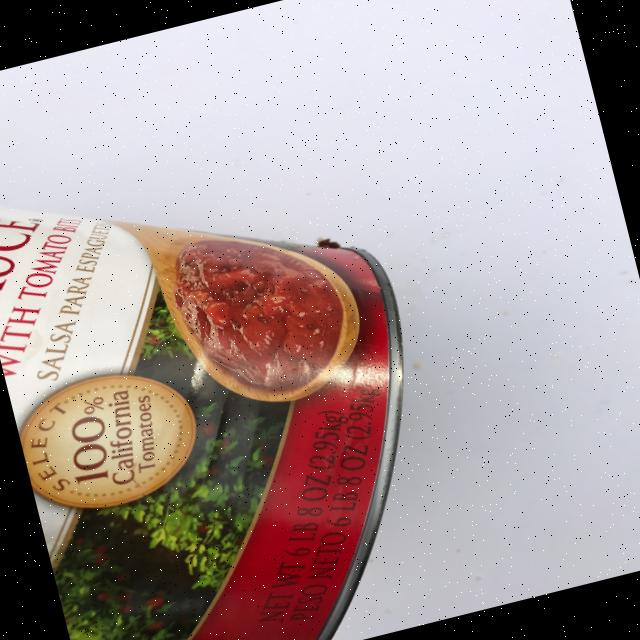metal: (0, 110, 474, 640)
